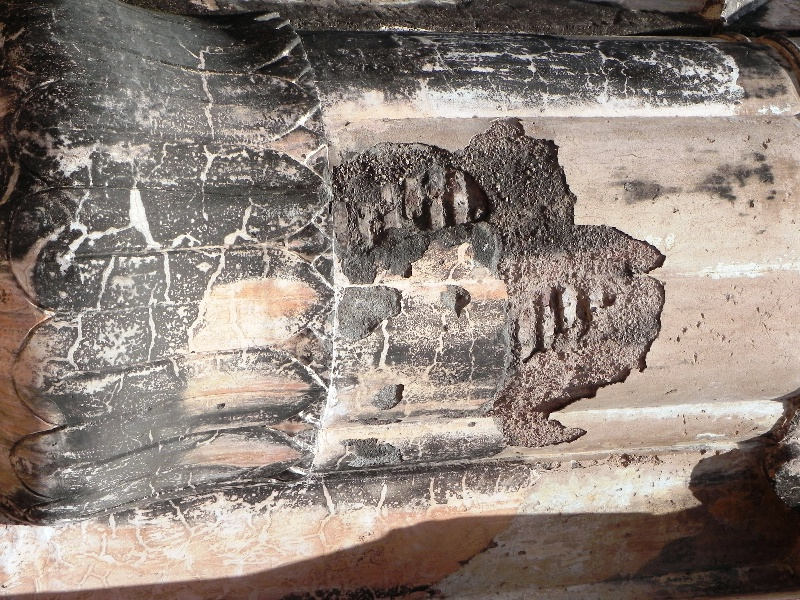Exposed Bricks: (342, 163, 483, 230), (523, 275, 608, 352)
Spalling: (491, 95, 676, 263), (490, 361, 653, 454)
